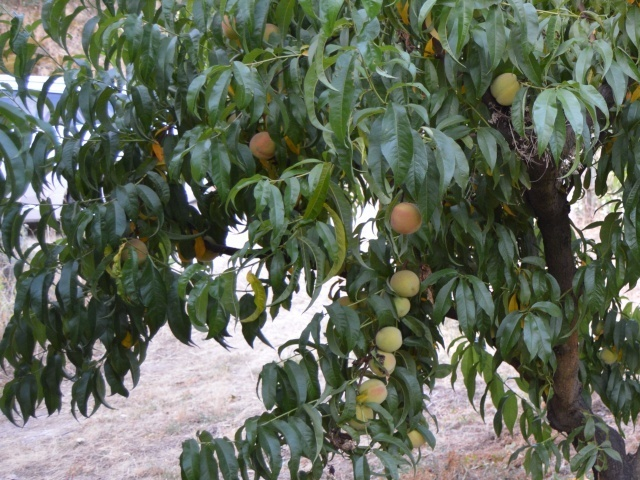peach: (487, 67, 524, 109), (387, 199, 426, 238), (386, 268, 424, 302), (357, 371, 391, 406), (246, 128, 280, 162), (371, 323, 406, 354), (344, 402, 377, 434), (363, 348, 397, 379), (119, 237, 150, 270), (387, 292, 415, 321), (400, 425, 427, 453), (598, 344, 620, 368)
